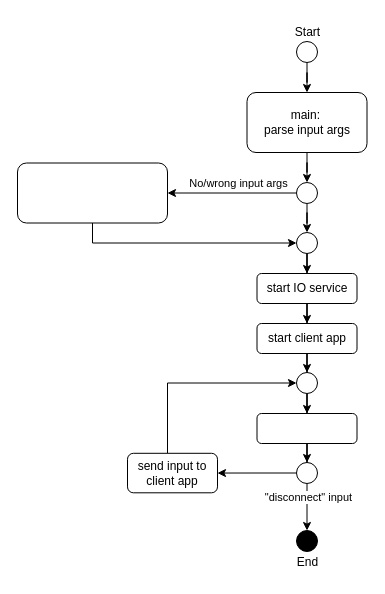
Image size: 385x594. Some labels were removed from this diagram. The shapes that lost their labels are listed below. From the top down, each one's box as (x1, y1, x2, y2) in pixels, then its label:
(16, 162, 168, 223): sets default values: username = Anonymous host = 127.0.0.1 port = 8888
(256, 412, 357, 444): read input
